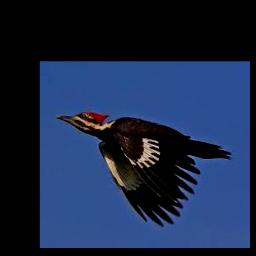Woodpecker: (56, 111, 232, 226)
